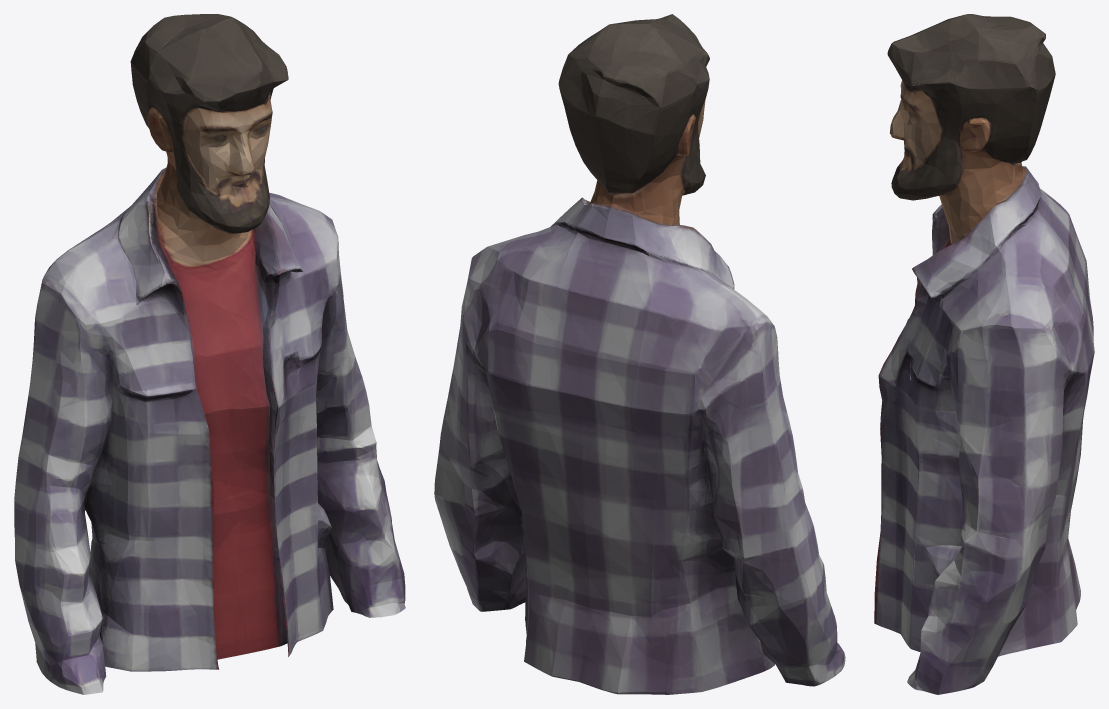
The picture shows the model from 3 angles, left to right: view 1: azimuth 30°, elevation 25°; view 2: azimuth 150°, elevation 25°; view 3: azimuth 270°, elevation 25°; orthographic projection. The views are drawn at different scales.
Visible parts, largest first — view 1: geometry_0; view 2: geometry_0; view 3: geometry_0.
Part boxes in pixels (x1,y1,x2,y2): geometry_0: (14,14,405,694); geometry_0: (434,14,845,694); geometry_0: (874,14,1094,694).
Bounding box in the file's own units: 0.5218 × 0.8284 × 0.2796.
Materials: 1 (1 with a texture image).
